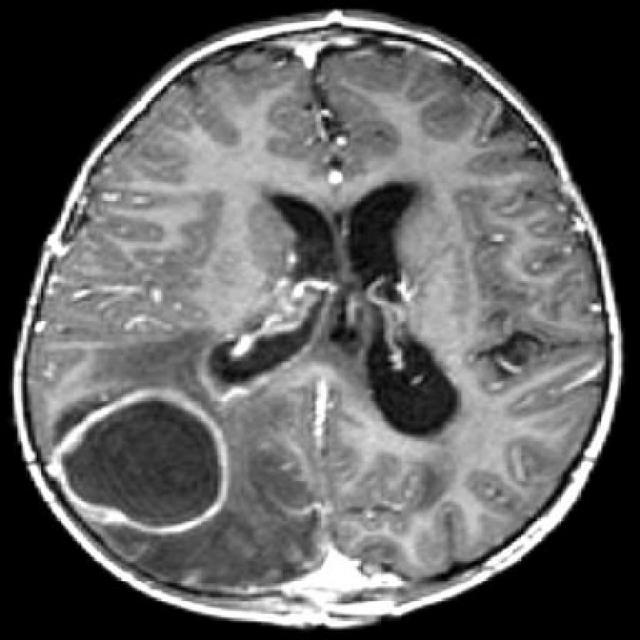Brain-Tumor: (38, 378, 253, 546)
